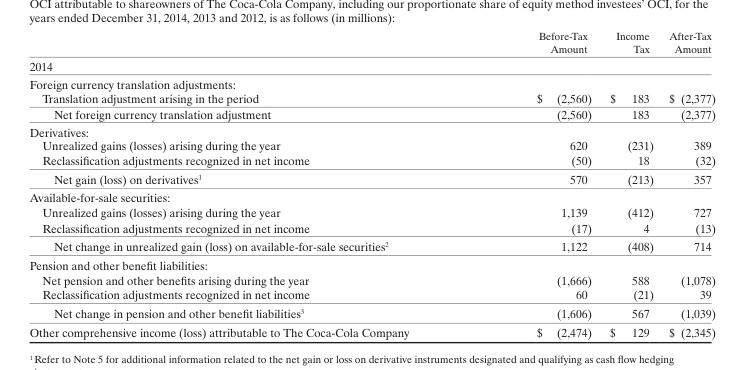table: (28, 29, 714, 339)
table column: (28, 29, 472, 339), (472, 29, 599, 339), (599, 29, 660, 339), (660, 29, 714, 339)
table column header: (28, 29, 714, 57)
table projected row header: (28, 57, 714, 75), (28, 187, 714, 204), (28, 255, 714, 272), (28, 75, 714, 91), (28, 122, 714, 138)
table row: (28, 29, 714, 57), (28, 236, 714, 255), (28, 303, 714, 322), (28, 57, 714, 75), (28, 169, 714, 187), (28, 105, 714, 122), (28, 152, 714, 169), (28, 187, 714, 204), (28, 219, 714, 236), (28, 255, 714, 272), (28, 286, 714, 303), (28, 322, 714, 339), (28, 75, 714, 91), (28, 122, 714, 138), (28, 204, 714, 219), (28, 91, 714, 105), (28, 138, 714, 152), (28, 272, 714, 286)
